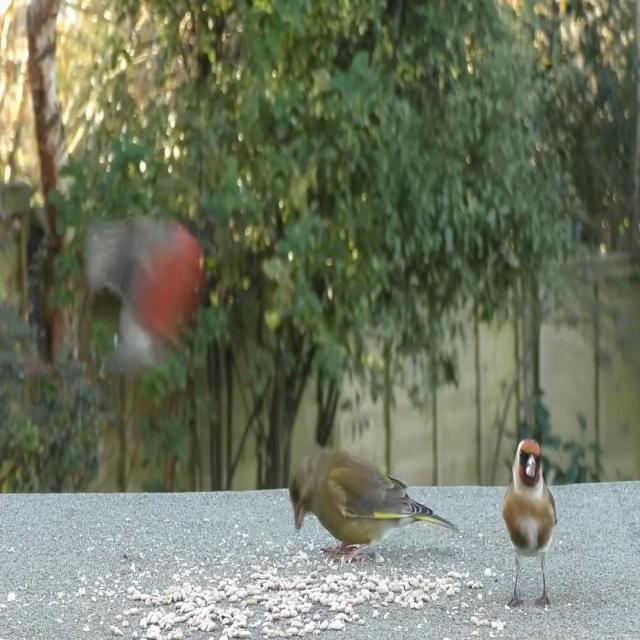beak: (289, 494, 307, 537), (523, 454, 538, 481)
bird: (286, 440, 460, 570), (80, 216, 206, 368), (501, 441, 562, 617)
